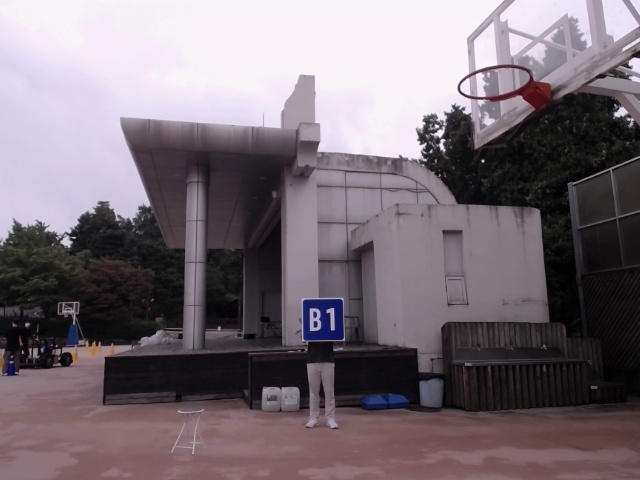delivery_b1: (302, 298, 345, 341)
